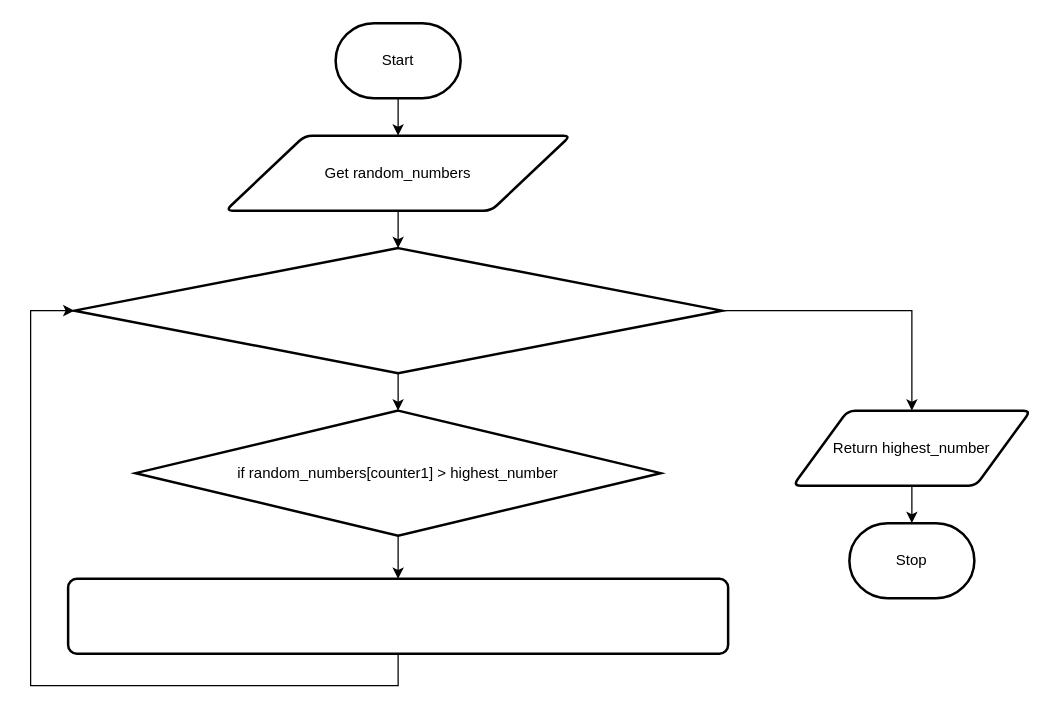
The diagram is 1054 pixels wide and 718 high, and some of its shapes have lost their labels. The box of each missing label's shape, as (x1, y1, x2, y2) in pixels:
highest_number = random_numbers[counter1]: (66, 577, 729, 654)
while counter1 = 0; counter1 < len(random_numbers); counter1++: (72, 246, 722, 374)
